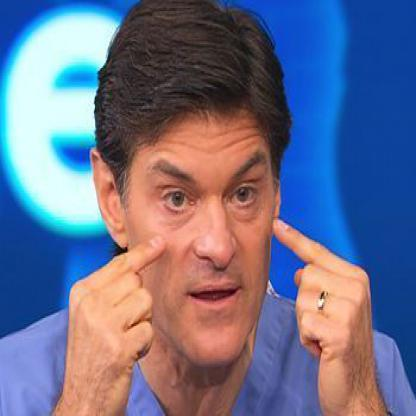wrinkle: (166, 122, 270, 155), (228, 209, 271, 223), (162, 213, 197, 228)
